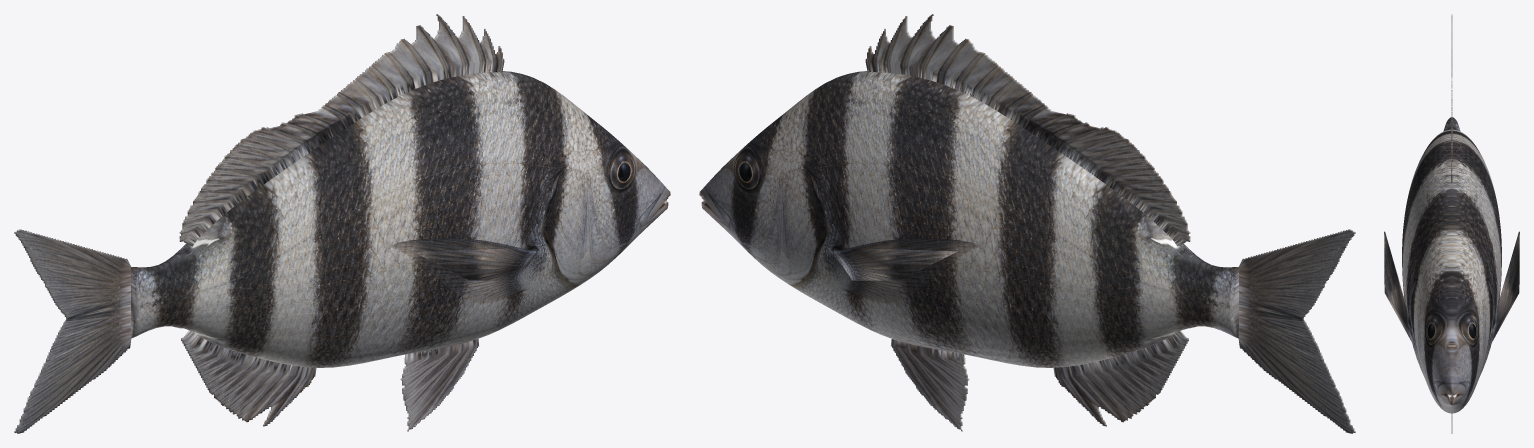
File: zebra_seabream.glb
3 views of the same model, side by side, from view 1: azimuth 30°, elevation 25°; view 2: azimuth 150°, elevation 25°; view 3: azimuth 270°, elevation 25° (orthographic). The views are drawn at different scales.
Parts seen in each view (by area): view 1: zebra_seabream_realistic; view 2: zebra_seabream_realistic; view 3: zebra_seabream_realistic.
Part boxes in pixels (x1,y1,x2,y2): zebra_seabream_realistic: [14, 14, 670, 433]; zebra_seabream_realistic: [699, 14, 1355, 433]; zebra_seabream_realistic: [1384, 14, 1519, 433].
Bounding box in the file's own units: 1 × 0.5972 × 0.2082.
Materials: 3 (3 with a texture image).
